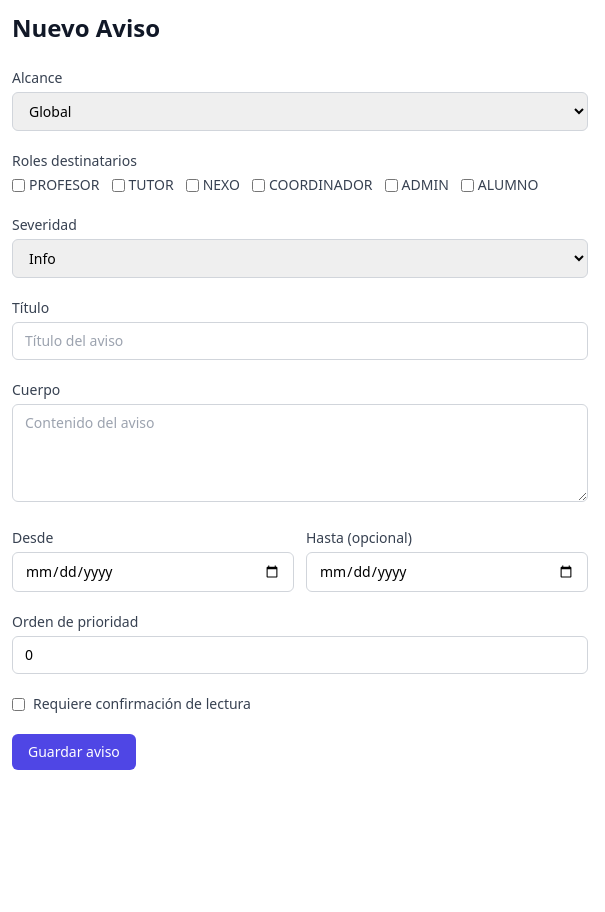
it: NuevoAvisoPage › validates Zod conditional: scope materia requires materiaId
Select "Materia" in the dropdown labelled "Alcance" at {"x": 300, "y": 112}, box [12, 92, 588, 131]
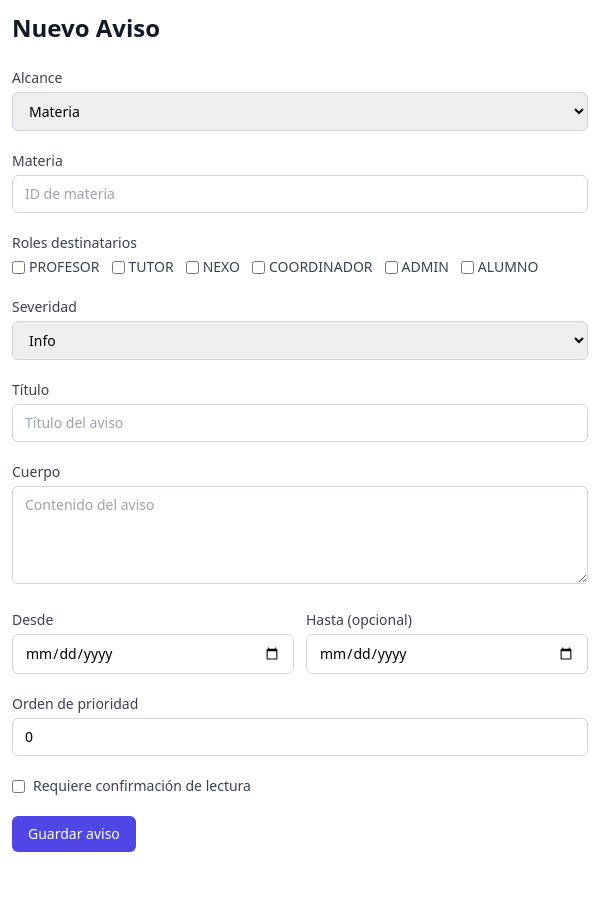
# Submit without filling materiaId
Click the button "Guardar aviso".
click(74, 834)  # box [12, 816, 136, 852]
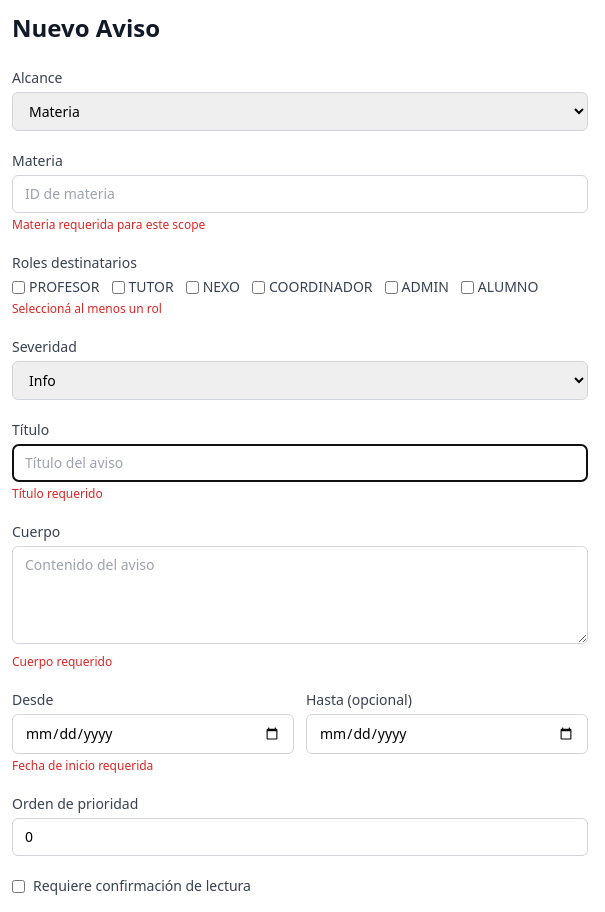
Check: the text "Materia requerida para este scope" is shown, box [12, 216, 205, 233]
